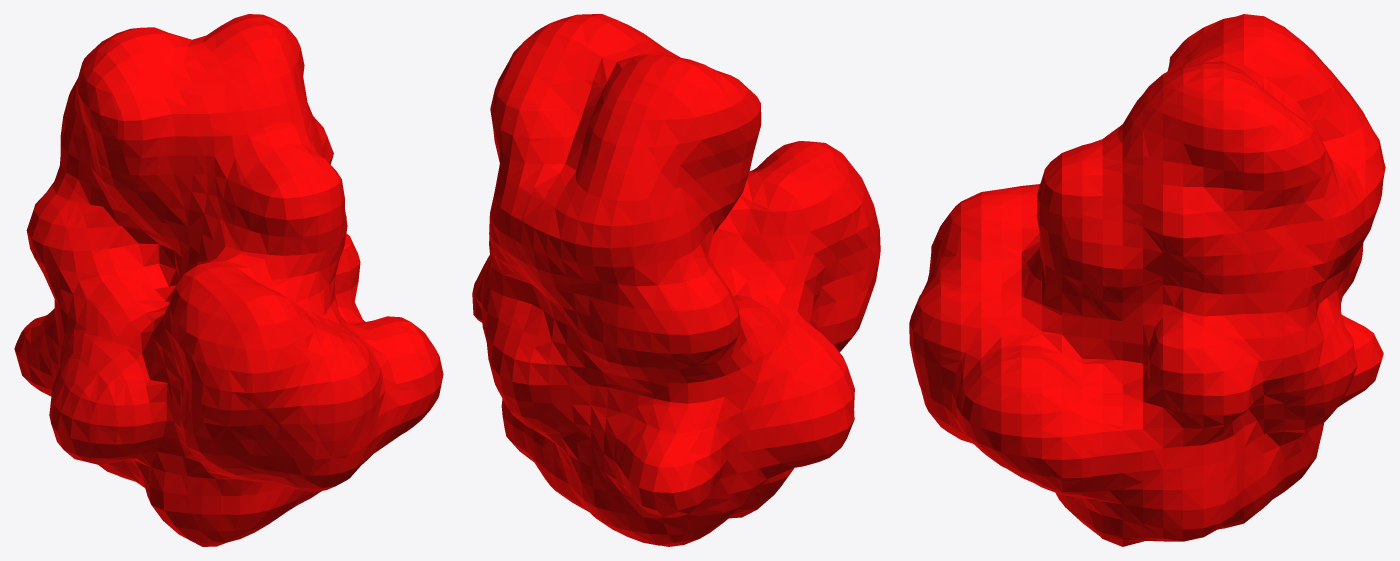
Rendered from yffS_coarse.dae.
3 renders of one model, left to right at view 1: azimuth 30°, elevation 25°; view 2: azimuth 150°, elevation 25°; view 3: azimuth 270°, elevation 25°, orthographic. The views are drawn at different scales.
Visible parts, largest first — view 1: yffS; view 2: yffS; view 3: yffS.
Part boxes in pixels (x1,y1,x2,y2): yffS: (14,14,443,546); yffS: (472,14,880,546); yffS: (909,14,1385,546).
Size of the model in its own units: 43.14 by 59.86 by 52.63.
